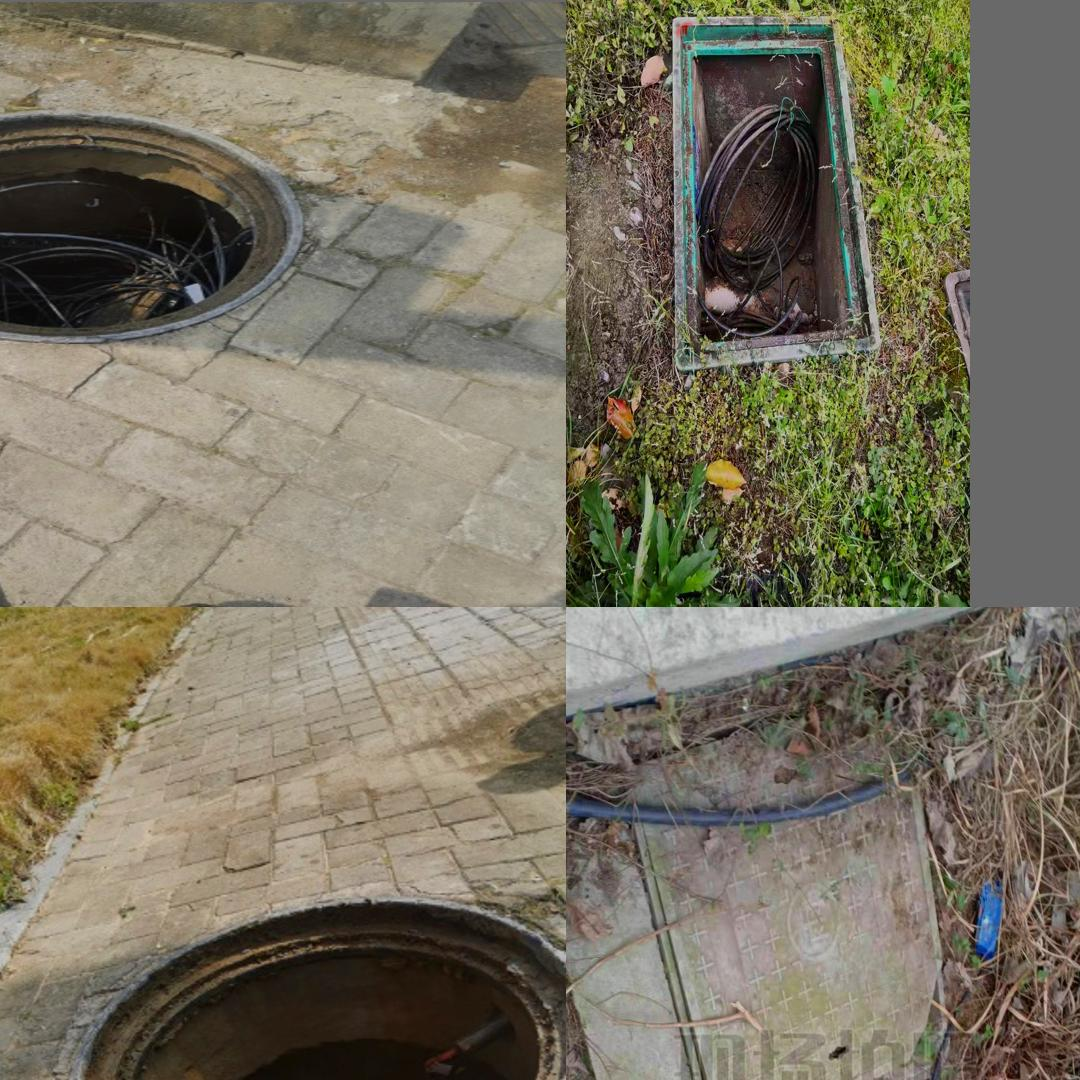lose: (628, 709, 973, 1080), (66, 893, 566, 1080), (670, 13, 881, 374), (0, 109, 302, 345)
